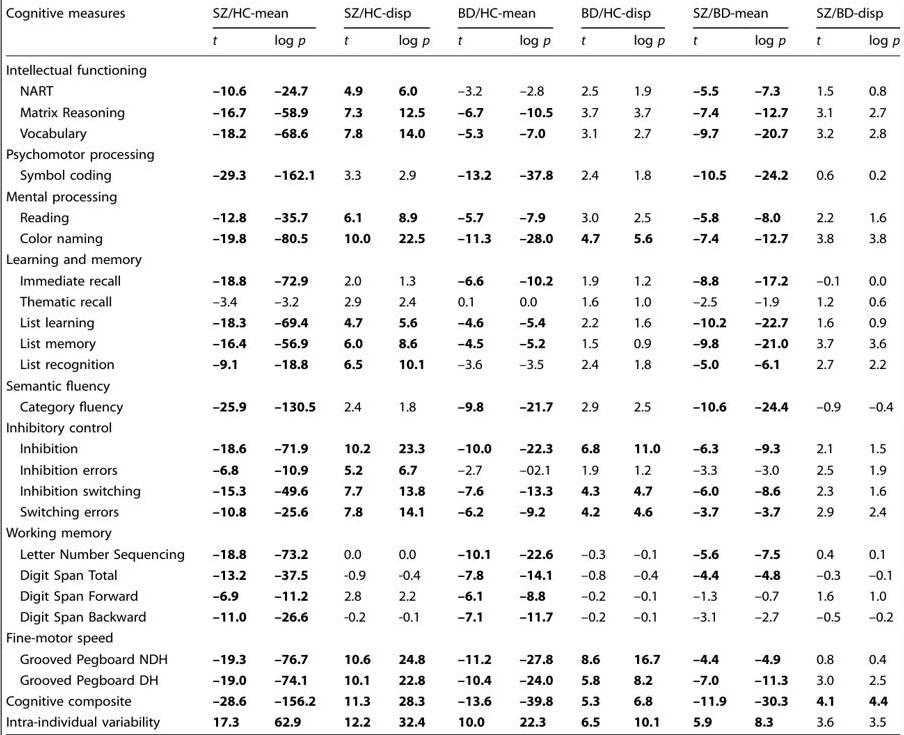table: (5, 4, 899, 729)
table column: (5, 4, 198, 729), (259, 4, 329, 729), (504, 4, 566, 729), (678, 4, 740, 729), (198, 4, 259, 729), (443, 4, 504, 729), (740, 4, 801, 729), (384, 4, 443, 729), (619, 4, 678, 729), (329, 4, 384, 729), (566, 4, 619, 729), (801, 4, 854, 729), (854, 4, 899, 729)
table column header: (5, 4, 899, 54)
table projected row header: (5, 54, 899, 80), (5, 143, 899, 164), (5, 185, 899, 206), (5, 248, 899, 269), (5, 627, 899, 648), (5, 375, 899, 395), (5, 417, 899, 437), (5, 522, 899, 542)
table row: (5, 26, 899, 54), (5, 54, 899, 80), (5, 4, 899, 26), (5, 353, 899, 375), (5, 395, 899, 417), (5, 500, 899, 522), (5, 563, 899, 585), (5, 80, 899, 101), (5, 101, 899, 122), (5, 122, 899, 143), (5, 143, 899, 164), (5, 164, 899, 185), (5, 185, 899, 206), (5, 206, 899, 227), (5, 227, 899, 248), (5, 248, 899, 269), (5, 269, 899, 290), (5, 290, 899, 311), (5, 311, 899, 332), (5, 332, 899, 353), (5, 437, 899, 458), (5, 458, 899, 479), (5, 479, 899, 500), (5, 542, 899, 563), (5, 585, 899, 606), (5, 606, 899, 627), (5, 627, 899, 648), (5, 648, 899, 669), (5, 669, 899, 690), (5, 690, 899, 711), (5, 375, 899, 395), (5, 417, 899, 437), (5, 522, 899, 542), (5, 711, 899, 729)
table spanning cell: (5, 4, 198, 54), (198, 4, 329, 26), (443, 4, 566, 26), (678, 4, 801, 26), (329, 4, 443, 26), (566, 4, 678, 26), (801, 4, 899, 26)
